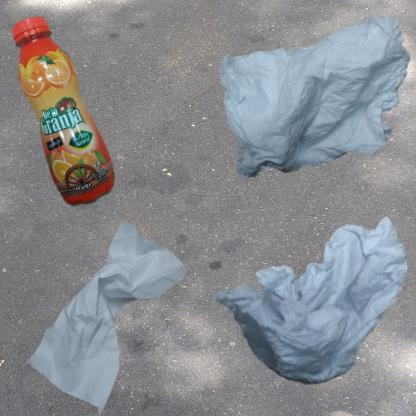botella: (10, 10, 123, 223)
papel: (10, 213, 208, 416), (213, 10, 416, 190), (213, 213, 409, 387)
